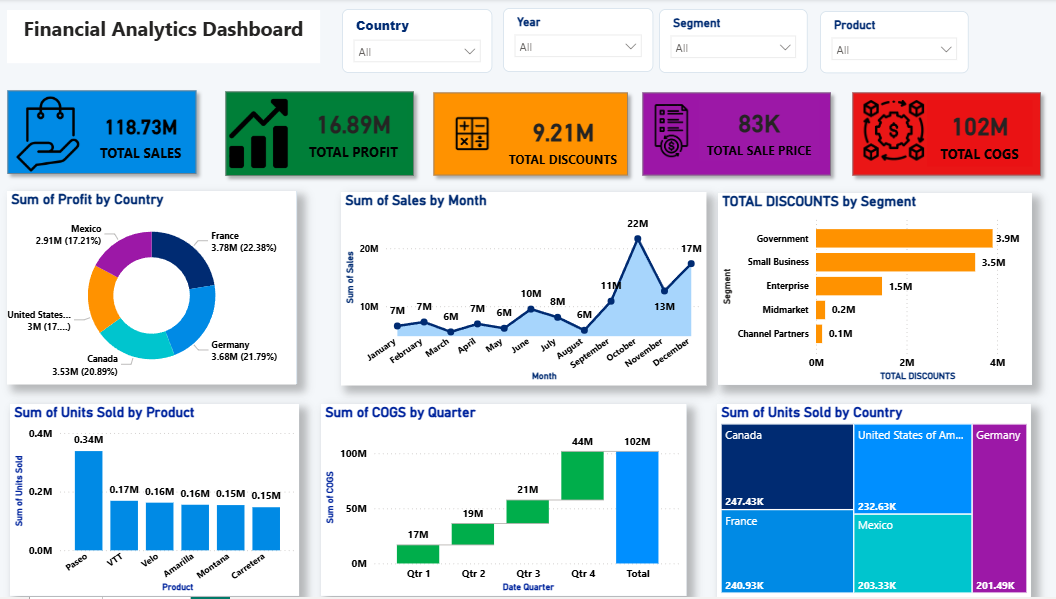

Layout of this report page (visuals, bound fields, positions):
{"tool":"powerbi","page":{"name":"analytics","canvas":[1280,720],"ordinal":1},"visuals":[{"type":"shape","box":[863.3,488,378.1,231.2],"z":0},{"type":"shape","box":[386.7,488,439.5,231.2],"z":1000},{"type":"shape","box":[12,488,348.2,231.2],"z":2000},{"type":"shape","box":[864.7,234,378.1,231.2],"z":3000},{"type":"shape","box":[411,232.6,439,232],"z":4000},{"type":"shape","box":[9.6,231.2,348,232],"z":5000},{"type":"shape","box":[1017.2,103.7,244.9,118],"z":6000},{"type":"shape","box":[765.1,103.7,244.9,118],"z":7000},{"type":"shape","box":[513.1,103.7,252.1,118],"z":8000},{"type":"shape","box":[262.8,101.9,244.9,119.8],"z":9000},{"type":"card","fields":{"Values":["Table1.TOTAL DISCOUNTS"]},"box":[606,128.7,144.8,80.4],"z":10000},{"type":"shape","box":[0,101.3,245.4,118.4],"z":11000},{"type":"card","fields":{"Values":["Table1.TOTAL SALES"]},"box":[105.6,128.4,127,69.9],"z":12000},{"type":"card","fields":{"Values":["Table1.TOTAL SALE PRICE"]},"box":[842,121.6,144.8,73.3],"z":13000},{"type":"card","fields":{"Values":["Table1.TOTAL PROFIT"]},"box":[361.1,123.4,128.7,73.3],"z":14000},{"type":"card","fields":{"Values":["Table1.TOTAL COGS"]},"box":[1115.5,121.6,126.9,80.4],"z":15000},{"type":"image","box":[10,114.2,95.6,95.6],"z":16000},{"type":"image","box":[261,114.4,100.1,94.7],"z":17000},{"type":"image","box":[530.9,121.6,75.1,80.4],"z":18000},{"type":"image","box":[775.9,121.6,66.1,73.3],"z":19000},{"type":"image","box":[1036.9,121.6,78.7,73.3],"z":20000},{"type":"slicer","fields":{"Values":["Table1.Year"]},"box":[606,10.7,180.6,76.9],"z":21000},{"type":"slicer","fields":{"Values":["Table1.Country"]},"box":[411.2,12.5,180.6,76.9],"z":22000},{"type":"slicer","fields":{"Values":["Table1.Product"]},"box":[986.8,14.3,178.8,75.1],"z":23000},{"type":"slicer","fields":{"Values":["Table1.Segment"]},"box":[793.7,12.5,178.8,76.9],"z":24000},{"type":"donutChart","fields":{"Category":["Table1.Country"],"Y":["Sum(Table1.Profit)"]},"box":[9,231,348.2,232.6],"z":25000},{"type":"areaChart","fields":{"Y":["Sum(Table1. Sales)"],"Category":["Table1.Date.Variation.Date Hierarchy.Month"]},"box":[410,232,439.5,232.6],"z":26000},{"type":"clusteredBarChart","fields":{"Category":["Table1.Segment"],"Y":["Table1.TOTAL DISCOUNTS"]},"box":[864,234,378.1,231],"z":27000},{"type":"clusteredColumnChart","fields":{"Category":["Table1.Product"],"Y":["Sum(Table1.Units Sold)"]},"box":[12,488,348.2,231.2],"z":28000},{"type":"waterfallChart","fields":{"Category":["Table1.Date.Variation.Date Hierarchy.Quarter"],"Y":["Sum(Table1.COGS)"]},"box":[386,488,439.5,231],"z":29000},{"type":"treemap","fields":{"Group":["Table1.Country"],"Values":["Sum(Table1.Units Sold)"]},"box":[863,488,378.1,232.6],"z":30000},{"type":"textbox","box":[8.6,12.8,376.7,64.2],"z":31000}]}

Visuals, with their boxes in screenshot pixels (x1, y1, x2, y2), scaled from the page's 1280x720 canvas onto the 1056x599 screenshot:
shape: bbox(712, 406, 1024, 598)
shape: bbox(319, 406, 682, 598)
shape: bbox(10, 406, 297, 598)
shape: bbox(713, 195, 1025, 387)
shape: bbox(339, 194, 701, 387)
shape: bbox(8, 192, 295, 385)
shape: bbox(839, 86, 1041, 184)
shape: bbox(631, 86, 833, 184)
shape: bbox(423, 86, 631, 184)
shape: bbox(217, 85, 419, 184)
card - Table1.TOTAL DISCOUNTS: bbox(500, 107, 619, 174)
shape: bbox(0, 84, 202, 183)
card - Table1.TOTAL SALES: bbox(87, 107, 192, 165)
card - Table1.TOTAL SALE PRICE: bbox(695, 101, 814, 162)
card - Table1.TOTAL PROFIT: bbox(298, 103, 404, 164)
card - Table1.TOTAL COGS: bbox(920, 101, 1025, 168)
image: bbox(8, 95, 87, 175)
image: bbox(215, 95, 298, 174)
image: bbox(438, 101, 500, 168)
image: bbox(640, 101, 695, 162)
image: bbox(855, 101, 920, 162)
slicer - Table1.Year: bbox(500, 9, 649, 73)
slicer - Table1.Country: bbox(339, 10, 488, 74)
slicer - Table1.Product: bbox(814, 12, 962, 74)
slicer - Table1.Segment: bbox(655, 10, 802, 74)
donutChart - Table1.Country x Sum(Table1.Profit): bbox(7, 192, 295, 386)
areaChart - Sum(Table1. Sales) x Table1.Date.Variation.Date Hierarchy.Month: bbox(338, 193, 701, 387)
clusteredBarChart - Table1.Segment x Table1.TOTAL DISCOUNTS: bbox(713, 195, 1025, 387)
clusteredColumnChart - Table1.Product x Sum(Table1.Units Sold): bbox(10, 406, 297, 598)
waterfallChart - Table1.Date.Variation.Date Hierarchy.Quarter x Sum(Table1.COGS): bbox(318, 406, 681, 598)
treemap - Table1.Country x Sum(Table1.Units Sold): bbox(712, 406, 1024, 598)
textbox: bbox(7, 11, 318, 64)
